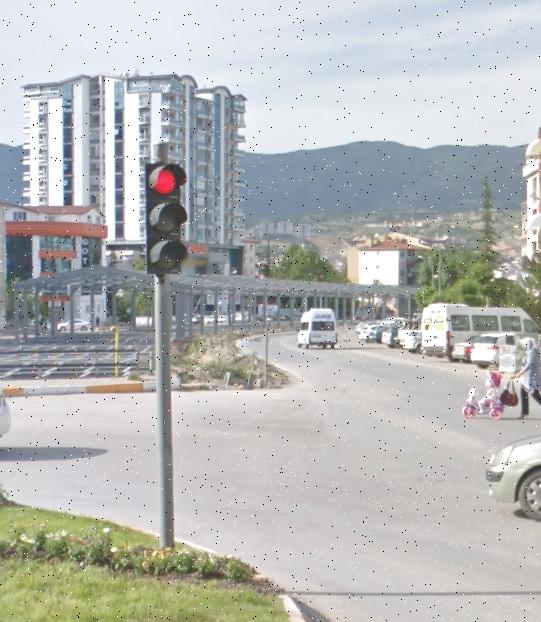redlight: (142, 161, 187, 278)
